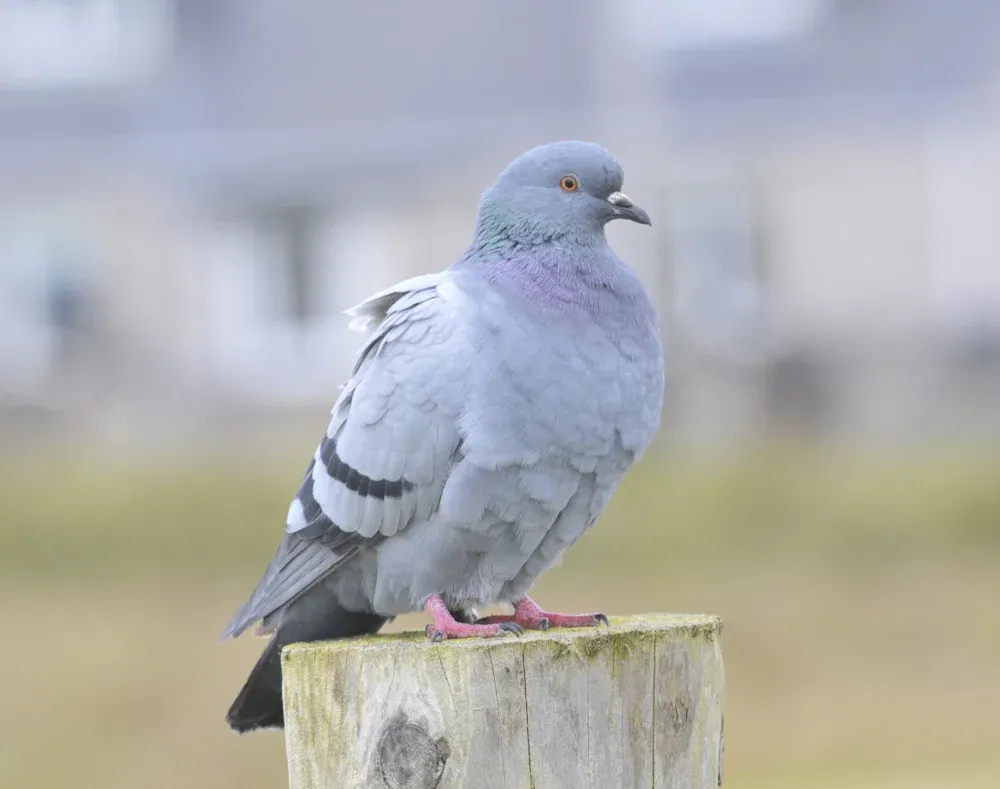Flying Rat: (229, 141, 667, 646)
